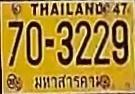0: (26, 21, 41, 65)
2: (92, 20, 108, 64), (75, 21, 90, 64)
3: (56, 20, 72, 64)
7: (8, 20, 23, 64)
9: (111, 20, 128, 63)
MKM: (34, 70, 104, 92)
